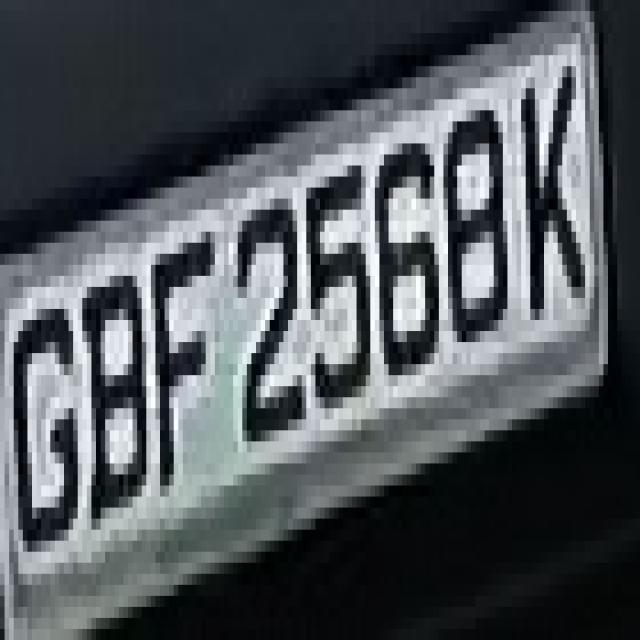2: (238, 176, 320, 452)
5: (284, 132, 371, 430)
6: (371, 132, 444, 386)
8: (439, 77, 516, 353)
B: (73, 198, 151, 540)
F: (132, 209, 228, 552)
G: (9, 243, 87, 585)
K: (512, 33, 599, 375)
